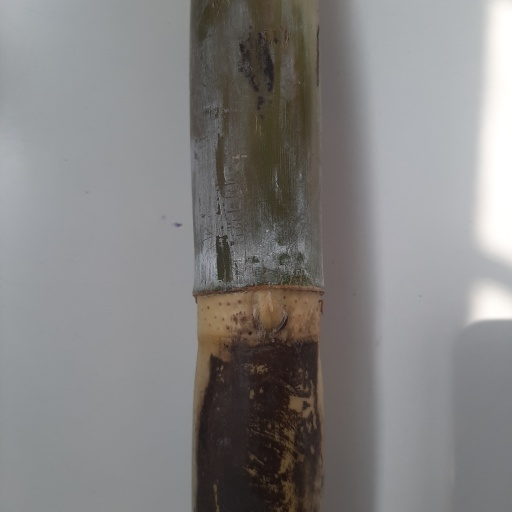Bud: (251, 296, 287, 337)
